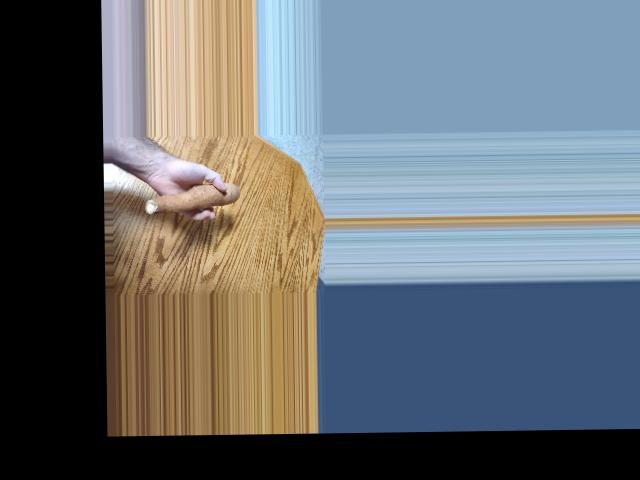sweet_potato: (147, 182, 238, 211)
